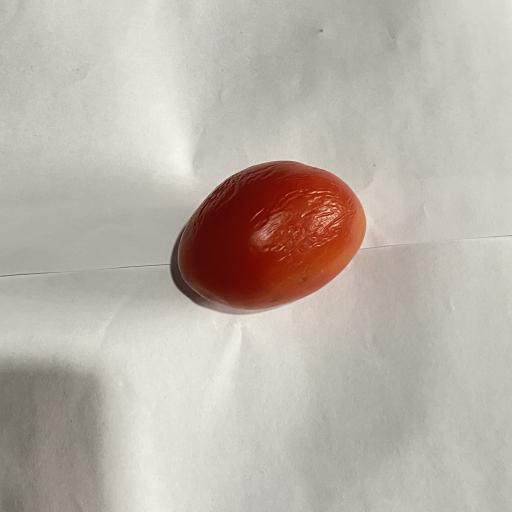spoiled: (178, 161, 366, 310)
